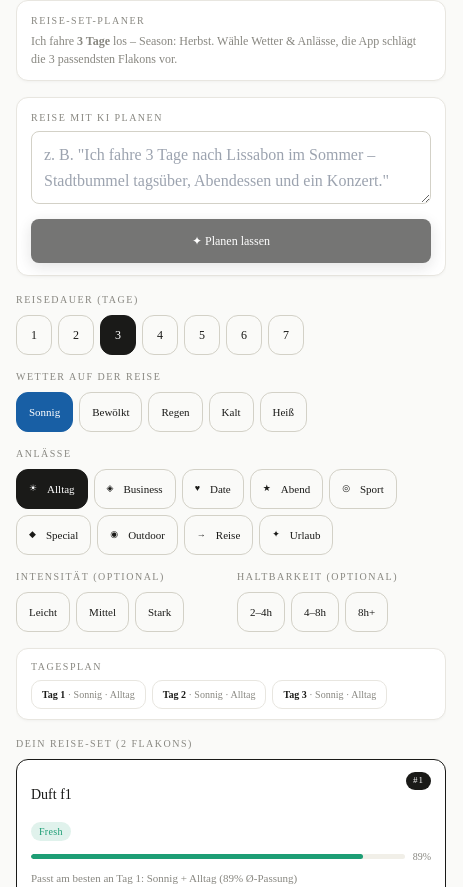
Scenario: ReiseTab › Reisedauer-Chips ändern die Tagesplan-Vorschau
Click the button "5" at (202, 335), box [184,315,220,355]
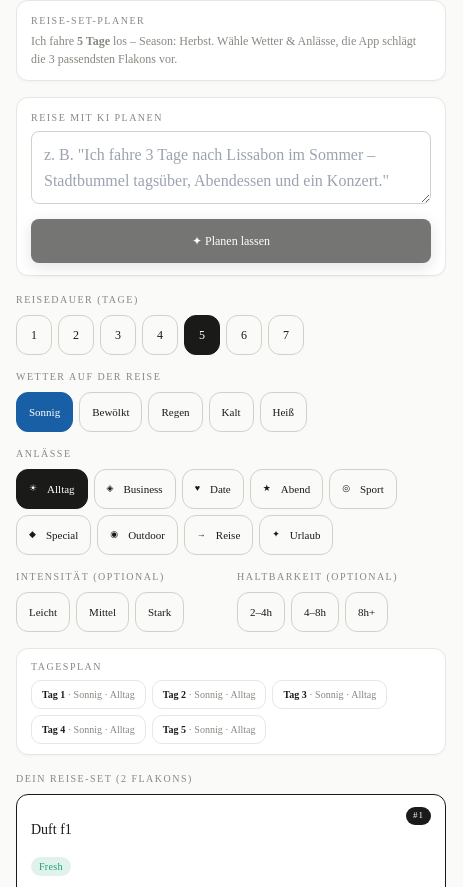
Check: the text "Tag 5" is shown, box [163,724,186,735]
